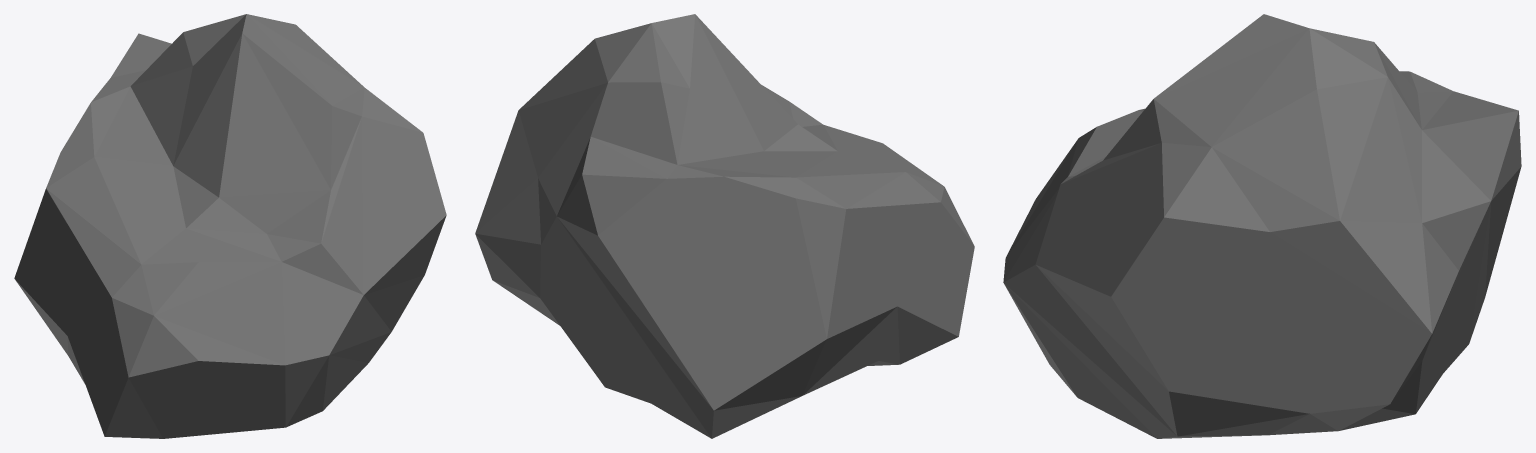
Rendered from rock4.fbx.
The picture shows the model from 3 angles, left to right: view 1: azimuth 30°, elevation 25°; view 2: azimuth 150°, elevation 25°; view 3: azimuth 270°, elevation 25°; orthographic projection. The views are drawn at different scales.
Visible parts, largest first — view 1: rock4_LOD0; view 2: rock4_LOD0; view 3: rock4_LOD0.
Part boxes in pixels (x1,y1,x2,y2): rock4_LOD0: (14,14,446,438); rock4_LOD0: (475,14,974,438); rock4_LOD0: (1003,14,1521,438).
Size of what is drawn, in the model's own units: 1.94 by 1.77 by 2.13.
